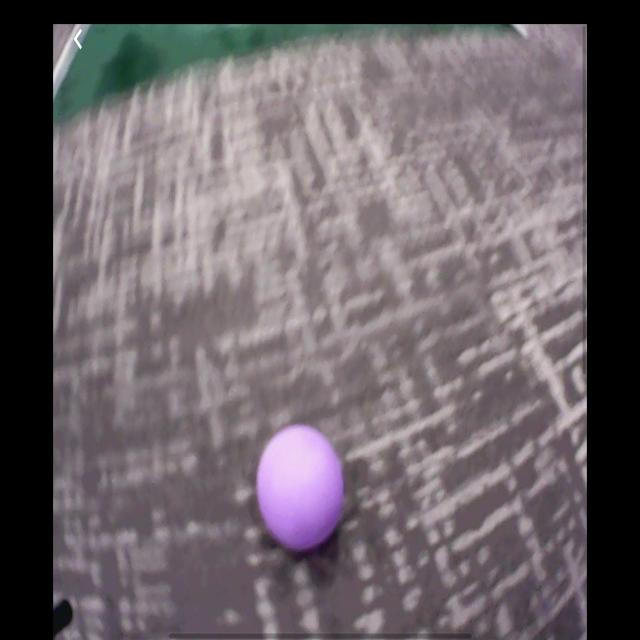ball: (259, 428, 344, 554)
